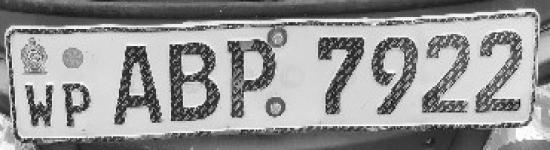2: (423, 28, 474, 118), (475, 24, 524, 116)
7: (309, 29, 367, 120)
9: (366, 29, 423, 120)
A: (107, 40, 165, 130)
B: (164, 34, 221, 126)
P: (218, 33, 278, 122), (59, 78, 94, 132)
W: (23, 77, 59, 132)
